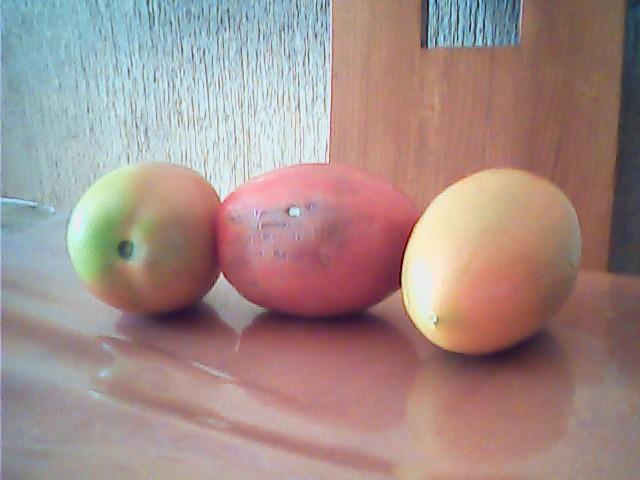defectuoso: (398, 165, 584, 357), (220, 164, 425, 320)
verde: (67, 160, 233, 314)
